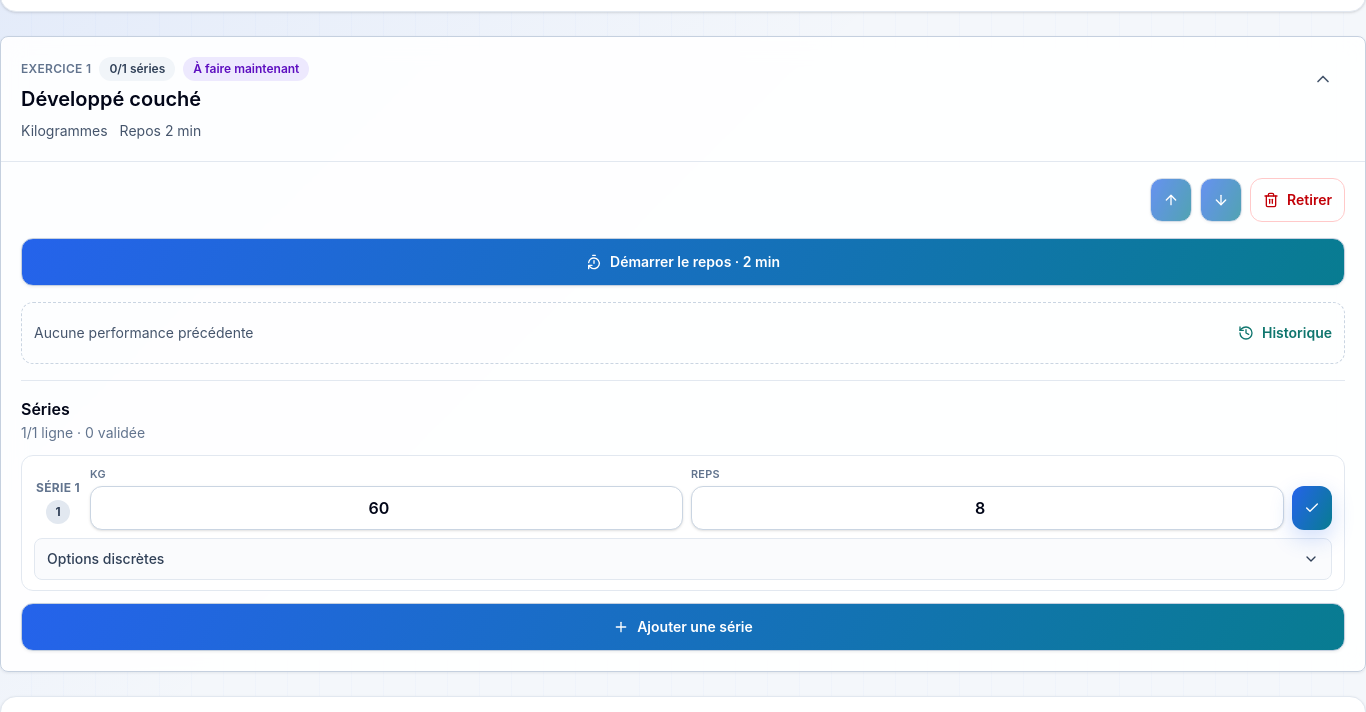
WorkoutSessionPage › conserve le focus et la saisie après la réconciliation locale d’un autosave
The width and height of the screenshot is (1366, 712).
(page scrolled)
Click the number field named "Répétitions": (988,508) [691,486,1284,530]
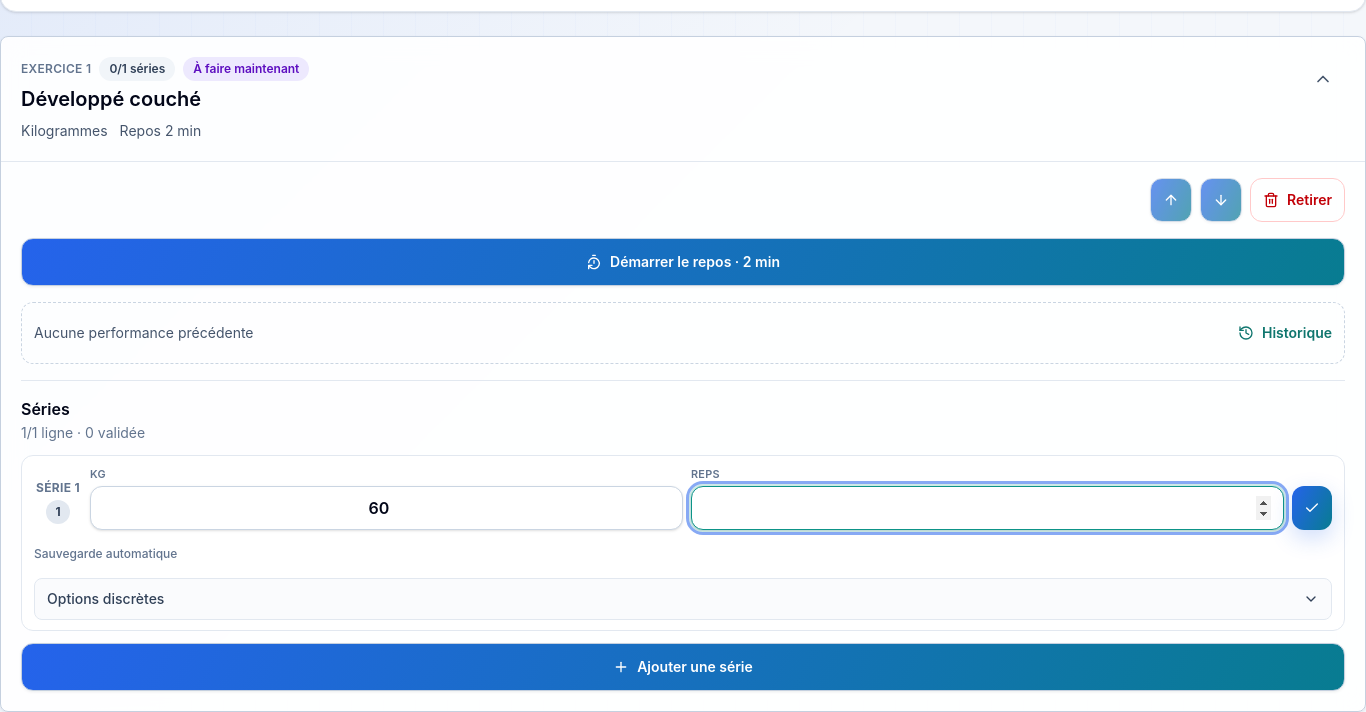
Now the number field named "Répétitions" is not empty
In the number field named "Répétitions": (988,508) [691,486,1284,530], type "1"
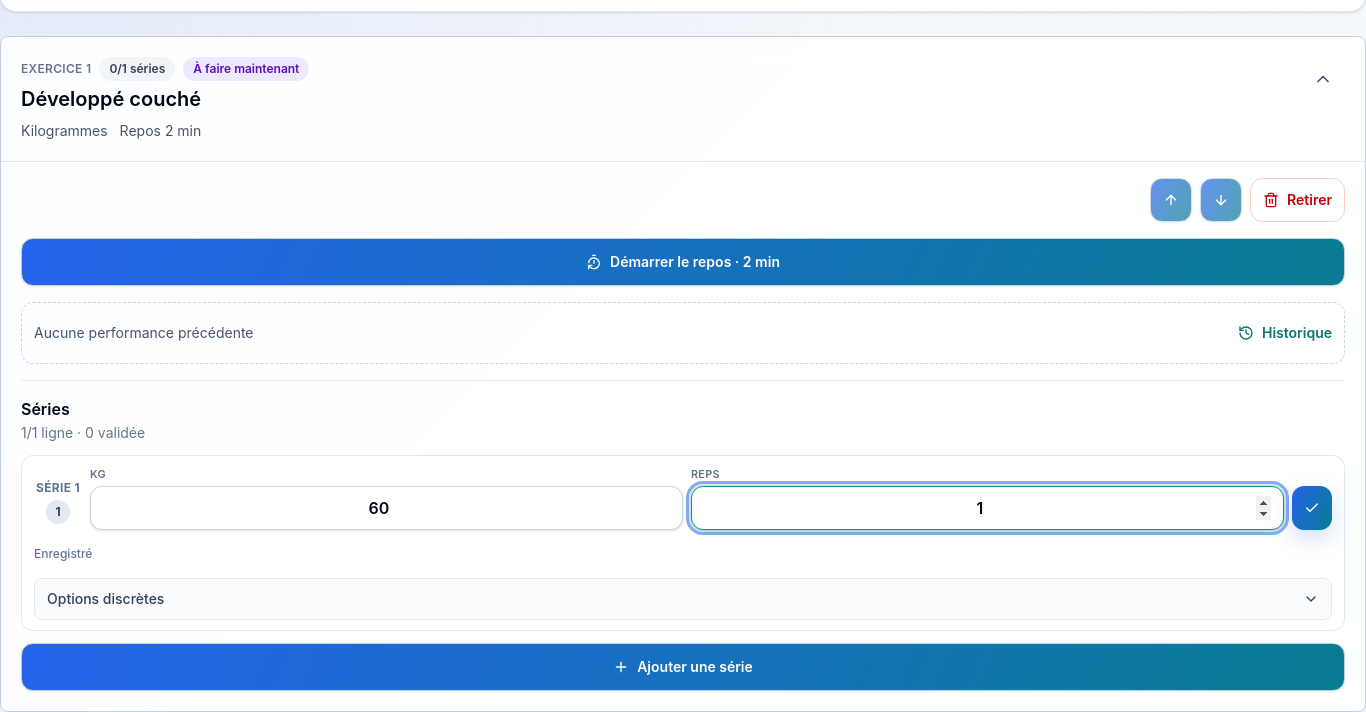
In the number field named "Répétitions": (988,508) [691,486,1284,530], type "2"
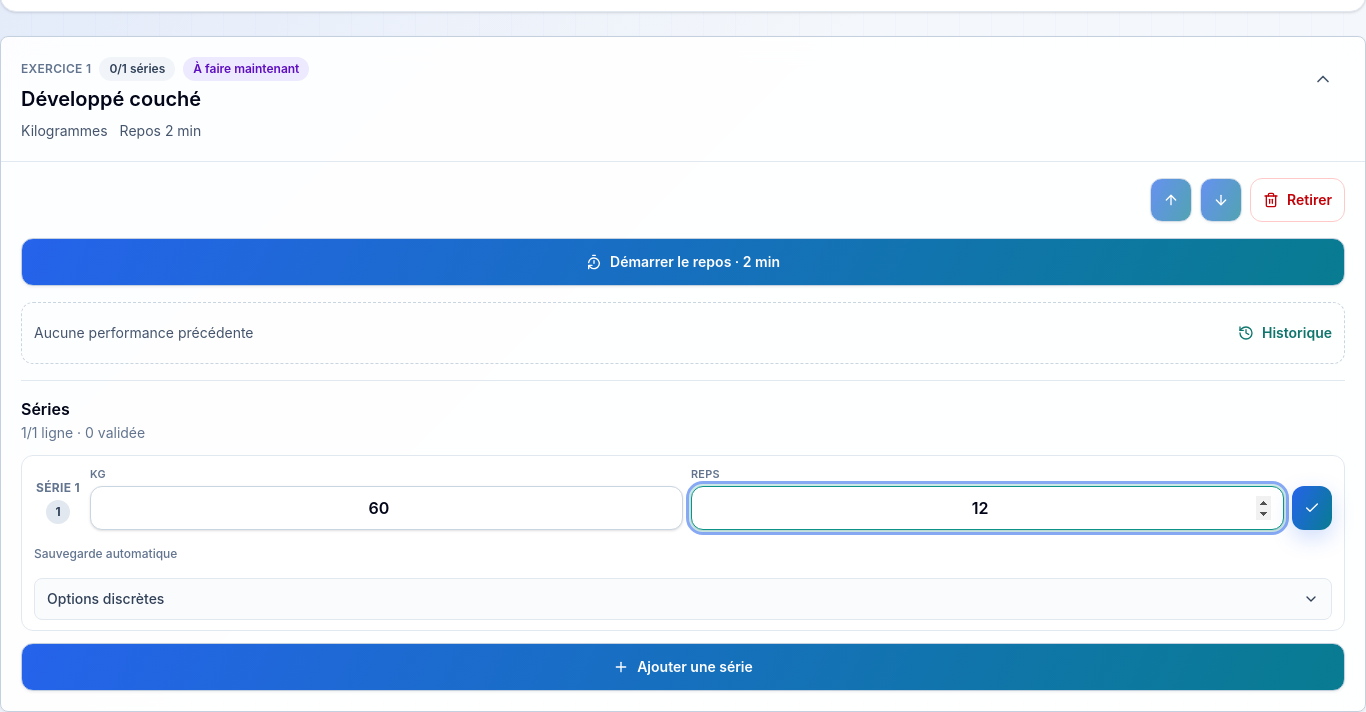
Now the number field named "Répétitions" holds "12", box [691,486,1284,530]
Click the number field named "Charge en kg": (386,508) [90,486,683,530]
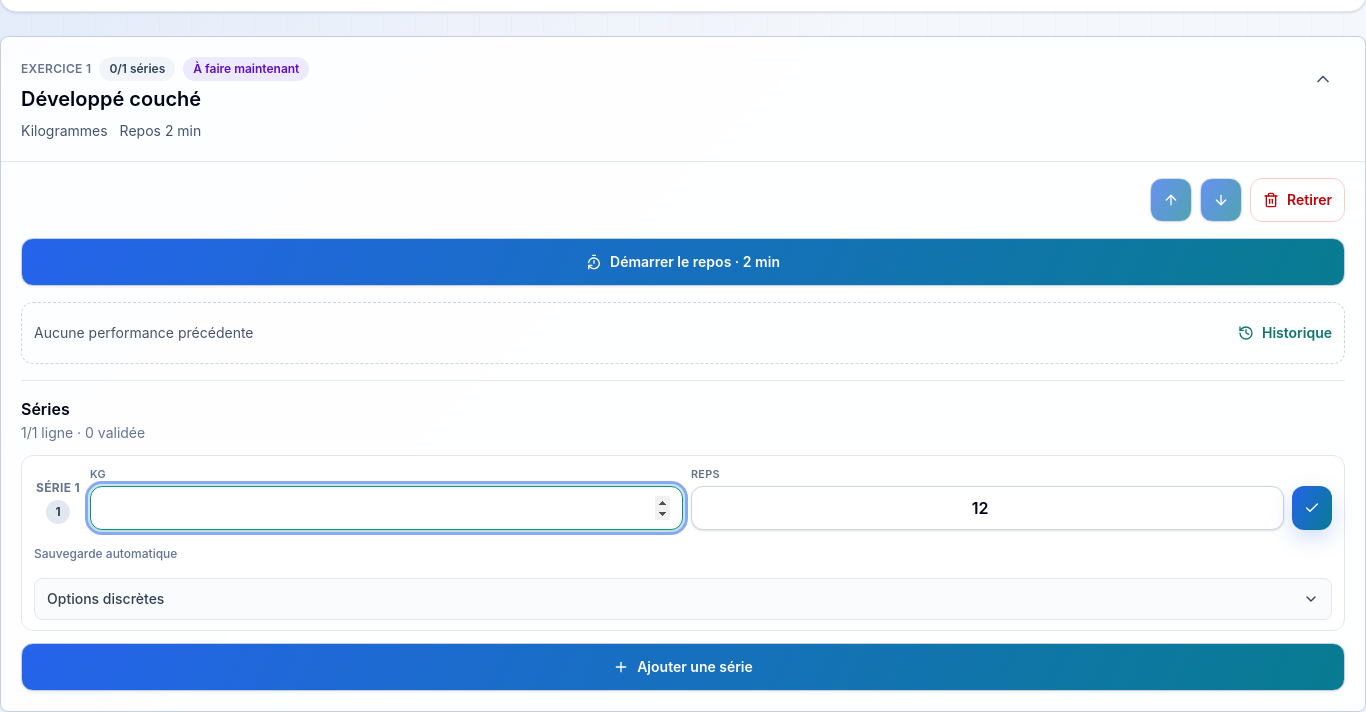
Click the number field named "Répétitions": (988,508) [691,486,1284,530]
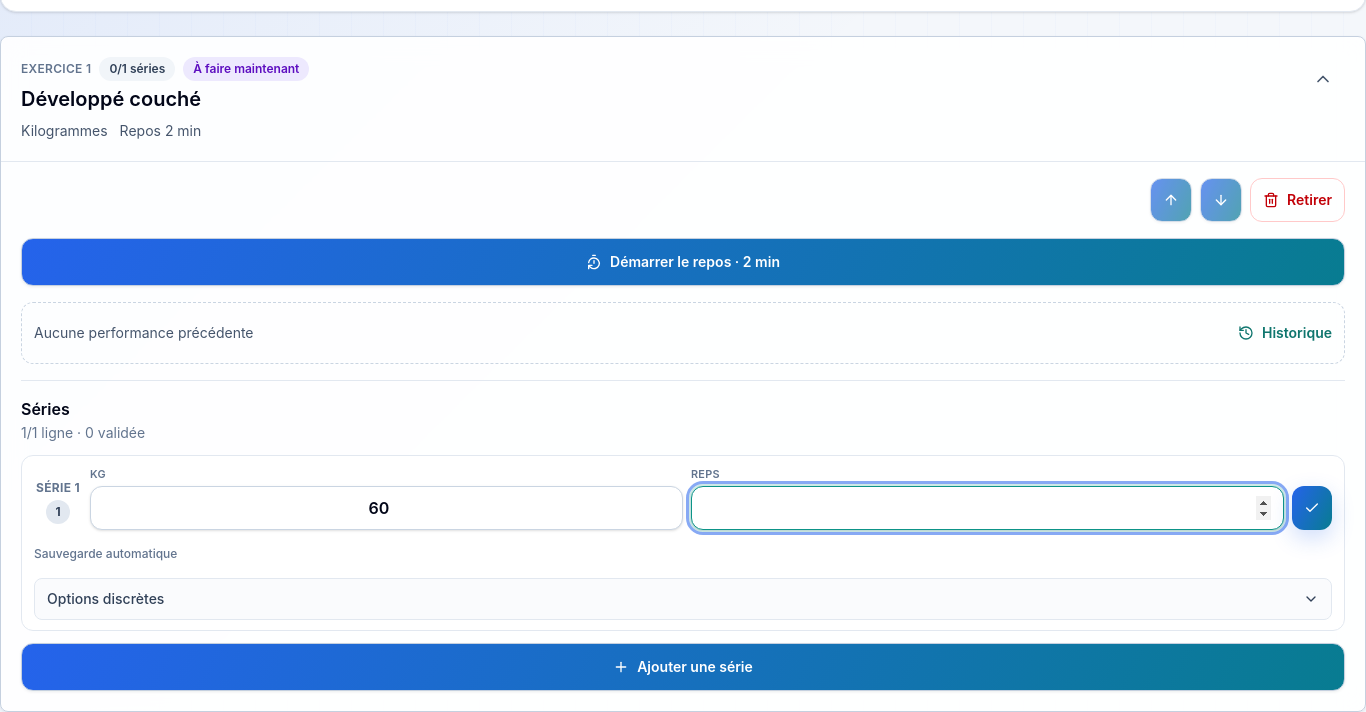
Now the number field named "Répétitions" is not empty, box [691,486,1284,530]
